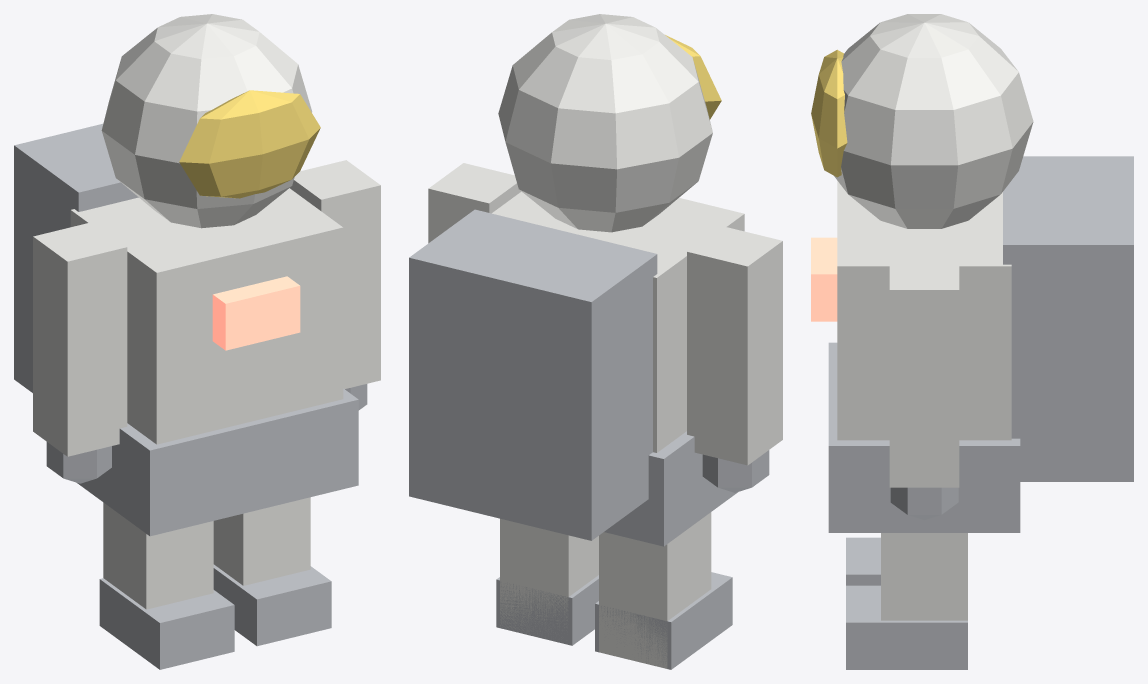
File: arena_astronaut.glb
3 views of the same model, side by side, from view 1: azimuth 30°, elevation 25°; view 2: azimuth 150°, elevation 25°; view 3: azimuth 270°, elevation 25° (orthographic).
Visible parts, largest first — view 1: arena_astronaut; view 2: arena_astronaut; view 3: arena_astronaut.
Part boxes in pixels (left/top/right/bottom): arena_astronaut: left=14, top=14, right=380, bottom=669; arena_astronaut: left=409, top=14, right=782, bottom=669; arena_astronaut: left=811, top=14, right=1133, bottom=669.
Size of the model in its own units: 0.84 by 1.53 by 0.74.
